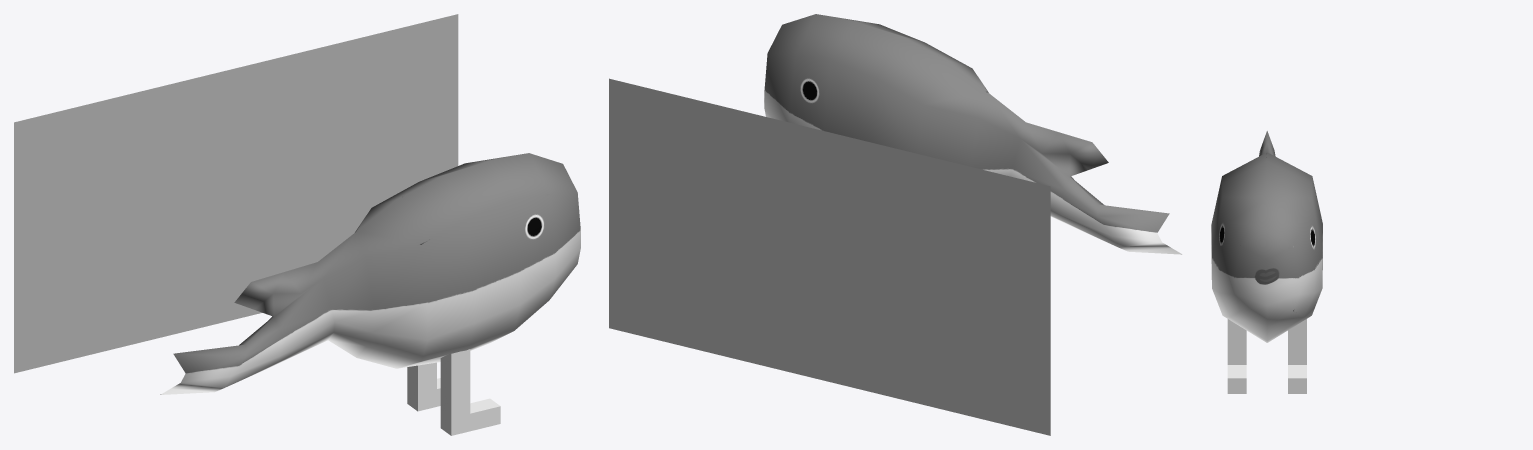
File: Blowfish.fbx
3 views of the same model, side by side, from view 1: azimuth 30°, elevation 25°; view 2: azimuth 150°, elevation 25°; view 3: azimuth 270°, elevation 25° (orthographic). The views are drawn at different scales.
Visible parts, largest first — view 1: Plane001, Circle001; view 2: Plane001, Circle001; view 3: Circle001.
Boxes of the visible parts, x1,y1,x2,y2 form: Plane001: (14, 14, 458, 373); Circle001: (160, 153, 580, 435); Plane001: (609, 78, 1050, 435); Circle001: (764, 14, 1182, 254); Circle001: (1211, 131, 1322, 393).
Size of the model in its own units: 450 by 254 by 299.
